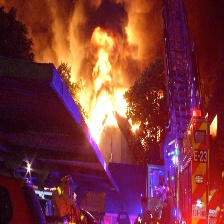fire: (82, 88, 130, 143), (91, 35, 114, 88)
smoke: (21, 1, 168, 78)
